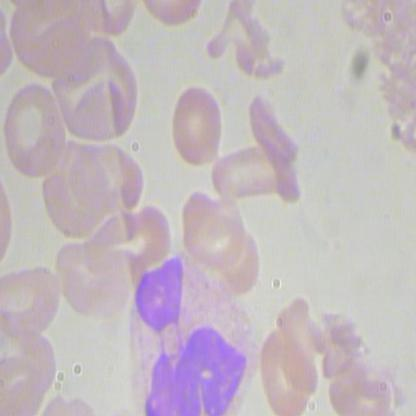WBC: (116, 247, 269, 415)
